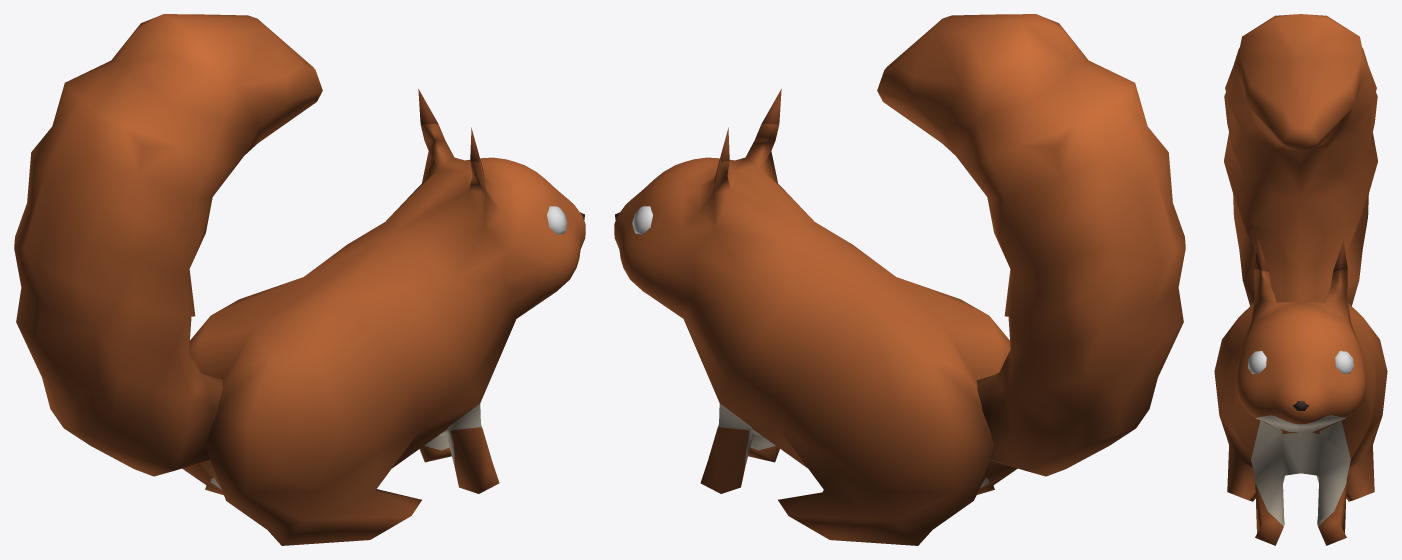
File: Squirrel.fbx
3 renders of one model, left to right at view 1: azimuth 30°, elevation 25°; view 2: azimuth 150°, elevation 25°; view 3: azimuth 270°, elevation 25°, orthographic. The views are drawn at different scales.
Visible parts, largest first — view 1: Body, Tail; view 2: Body, Tail; view 3: Tail, Body.
Part boxes in pixels (x1=…): Body: x1=182, y1=89, x2=585, y2=545; Tail: x1=14, y1=14, x2=322, y2=476; Body: x1=614, y1=89, x2=1017, y2=545; Tail: x1=877, y1=14, x2=1185, y2=476; Tail: x1=1224, y1=14, x2=1377, y2=305; Body: x1=1214, y1=239, x2=1387, y2=545.
Bounding box in the file's own units: 0.3456 × 0.3061 × 0.1152.
